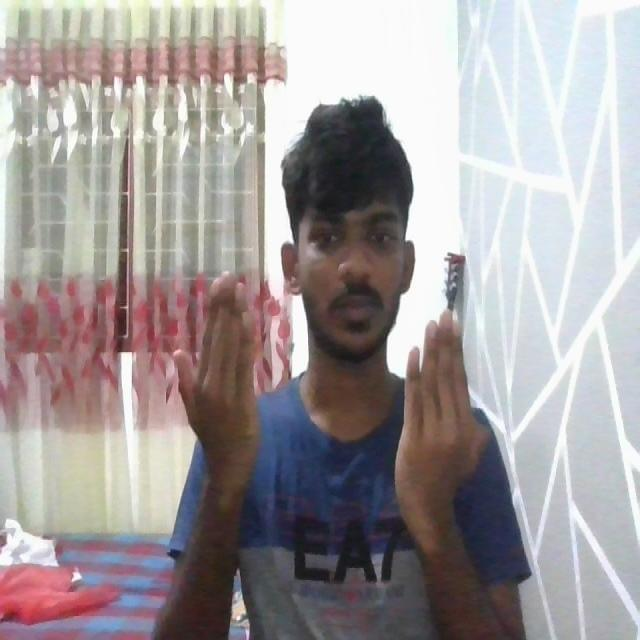ThankYou: (153, 265, 534, 635)
